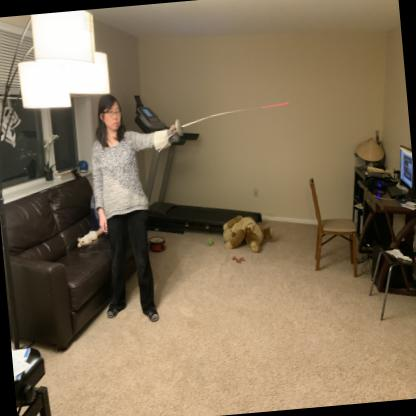foil-tip: (277, 96, 295, 120)
hand-and-foil: (150, 90, 304, 154)
